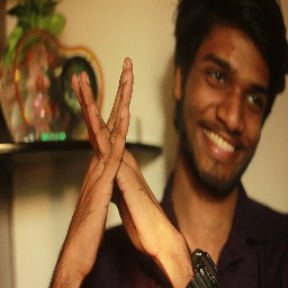W: (56, 51, 182, 269)
